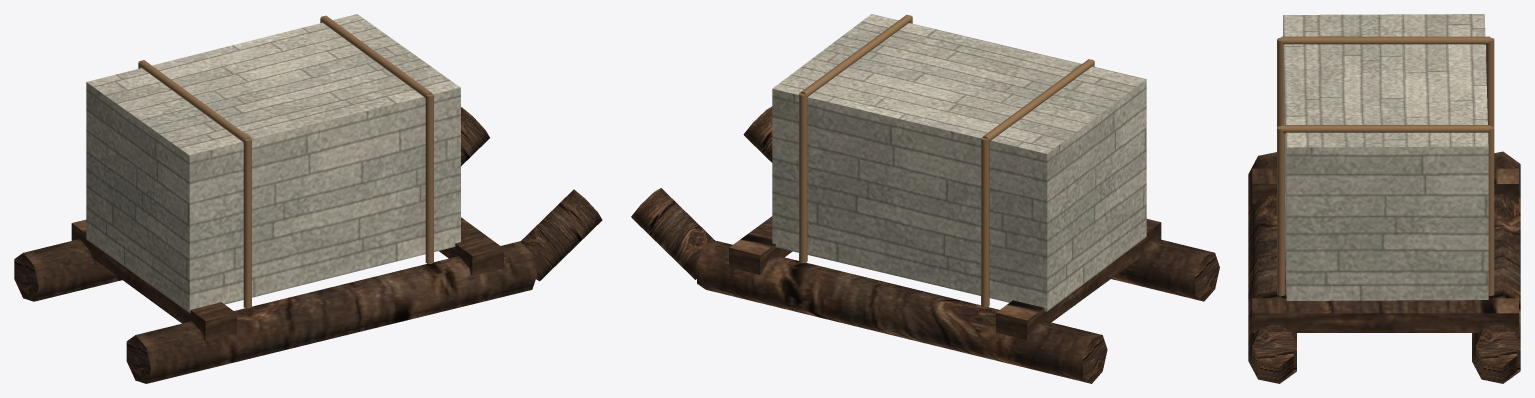
The model's file is bronzeSledge.glb.
3 views of the same model, side by side, from view 1: azimuth 30°, elevation 25°; view 2: azimuth 150°, elevation 25°; view 3: azimuth 270°, elevation 25° (orthographic).
Visible parts, largest first — view 1: part_1, part_0, part_2; view 2: part_1, part_0, part_2; view 3: part_1, part_0, part_2.
Part boxes in pixels (<box>): part_1: <box>86,14,460,312</box>; part_0: <box>14,107,602,383</box>; part_2: <box>138,15,433,308</box>; part_1: <box>772,14,1146,311</box>; part_0: <box>631,106,1219,383</box>; part_2: <box>799,15,1094,307</box>; part_1: <box>1283,14,1488,300</box>; part_0: <box>1248,151,1520,383</box>; part_2: <box>1277,36,1494,295</box>.
Size of the model in its own units: 1.46 by 0.655 by 0.755.
Materials: 3 (2 with a texture image).
